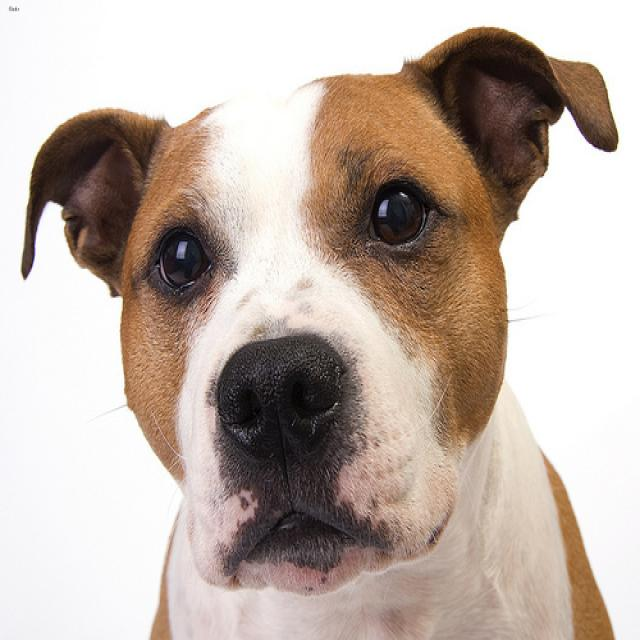dog-staffordshire_bull_terrier: (13, 18, 626, 637)
